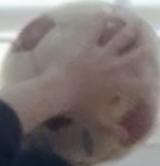Sports-Ball: (21, 16, 156, 149)
